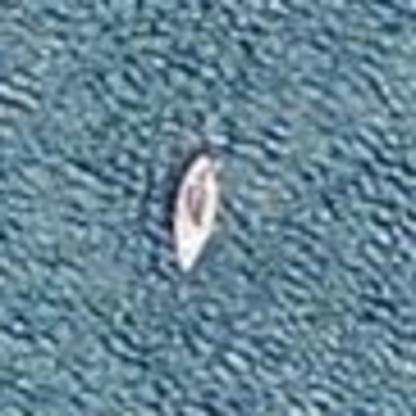ship: (162, 143, 224, 278)
